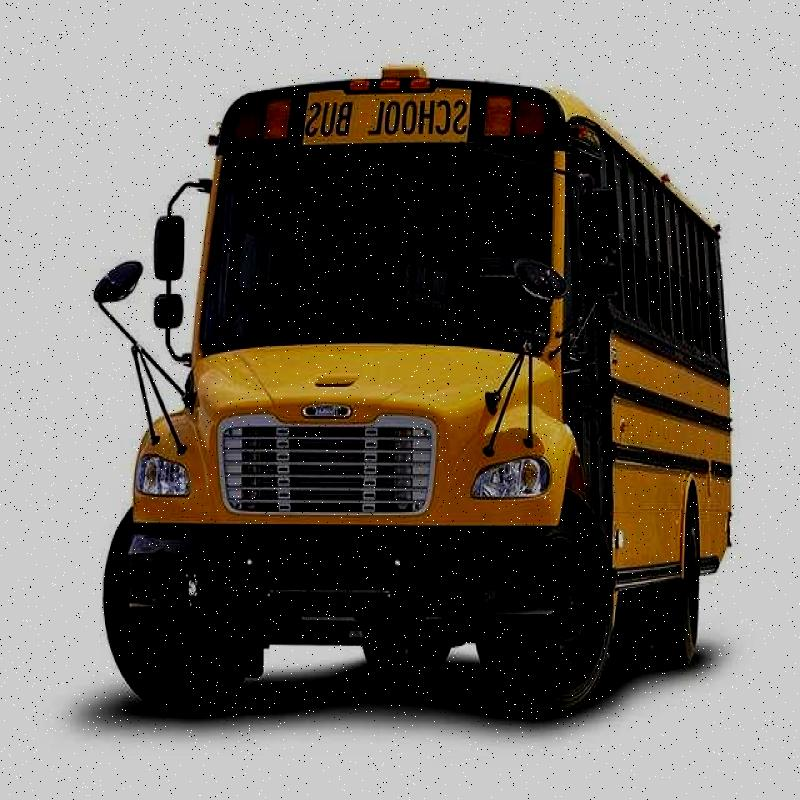bus: (69, 61, 738, 713)
